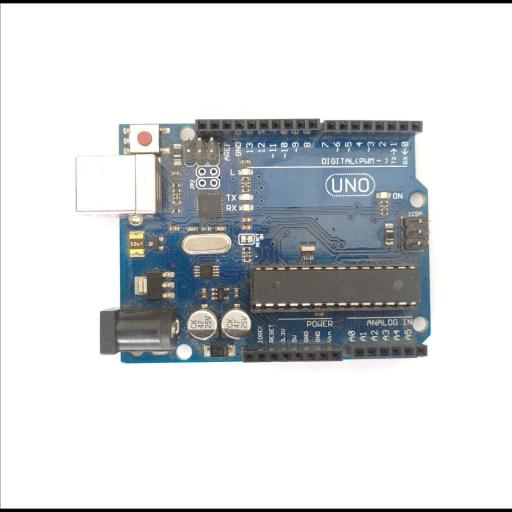Arduino Uno R3: (81, 118, 433, 364)
